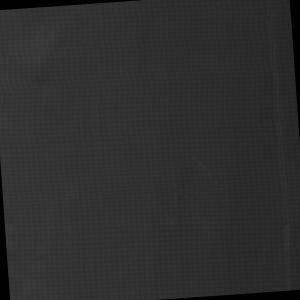Wrinkle: (13, 4, 110, 105)
